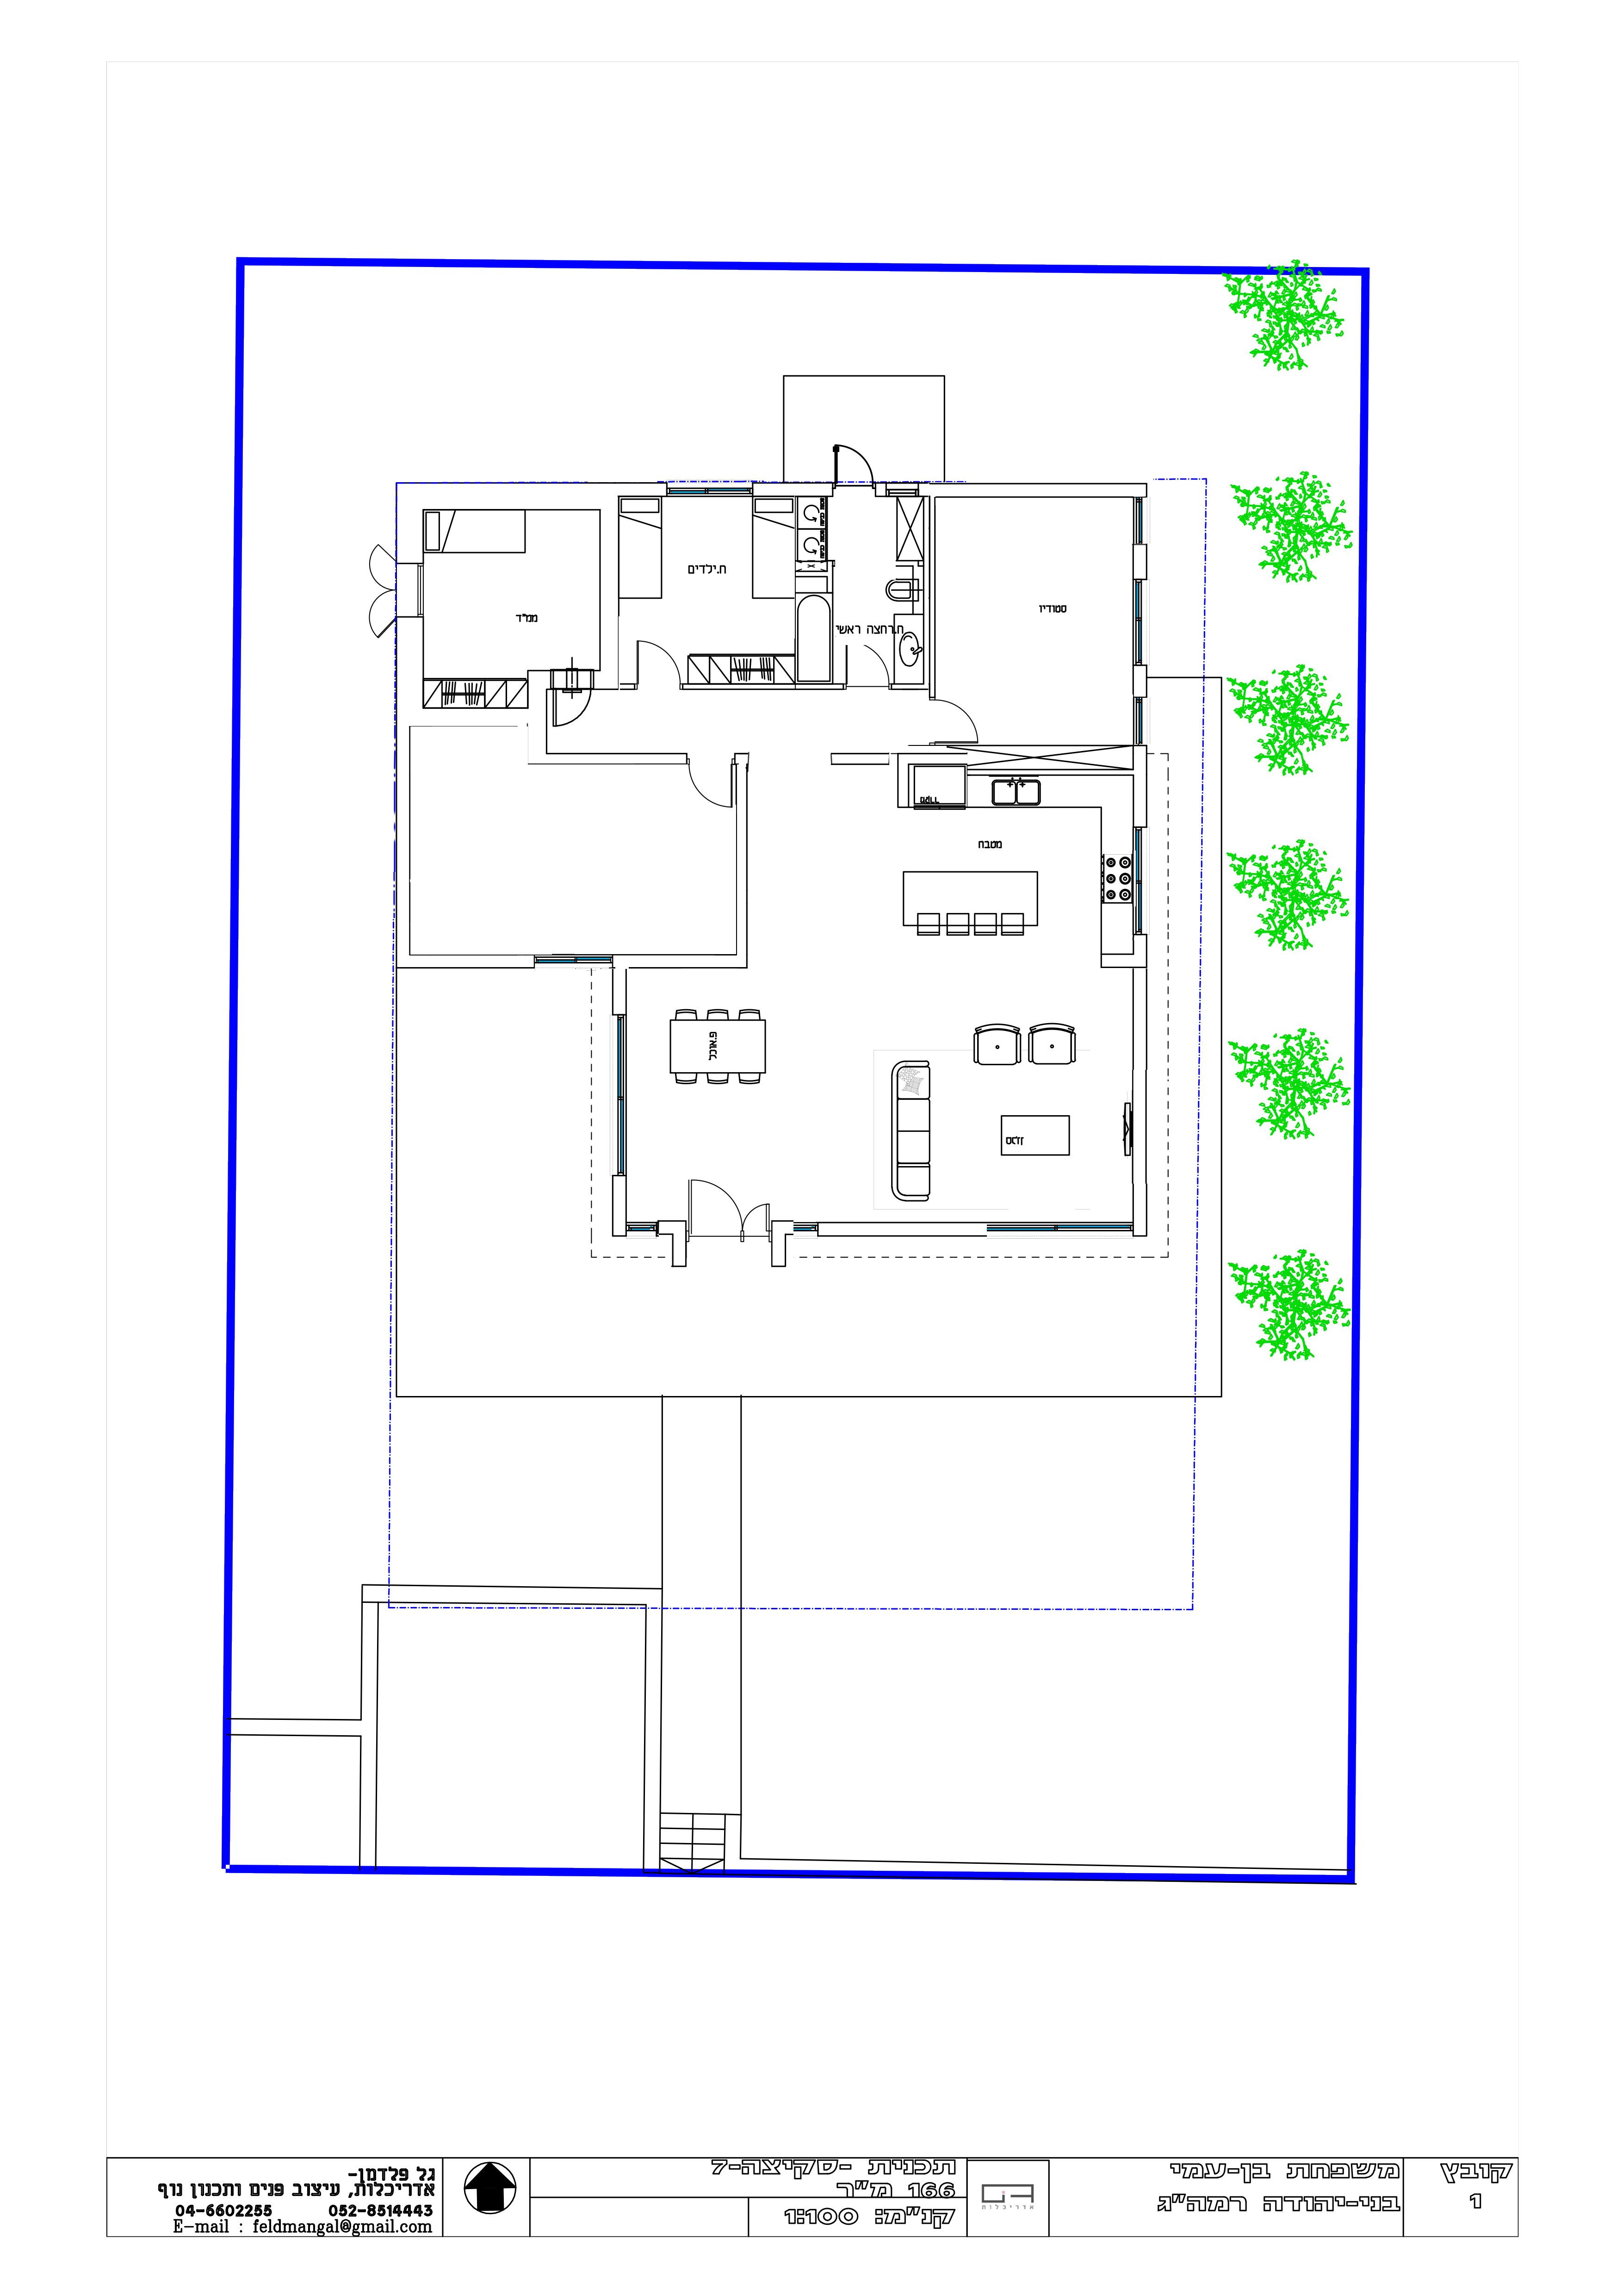door: (685, 1172, 773, 1249), (919, 694, 992, 747), (548, 689, 620, 741), (357, 539, 393, 641), (833, 436, 873, 502)
wall: (822, 1209, 977, 1242)
window: (987, 1200, 1133, 1253), (610, 1012, 641, 1170), (687, 748, 736, 836), (1133, 578, 1161, 669), (1135, 826, 1156, 940), (534, 945, 613, 971)
